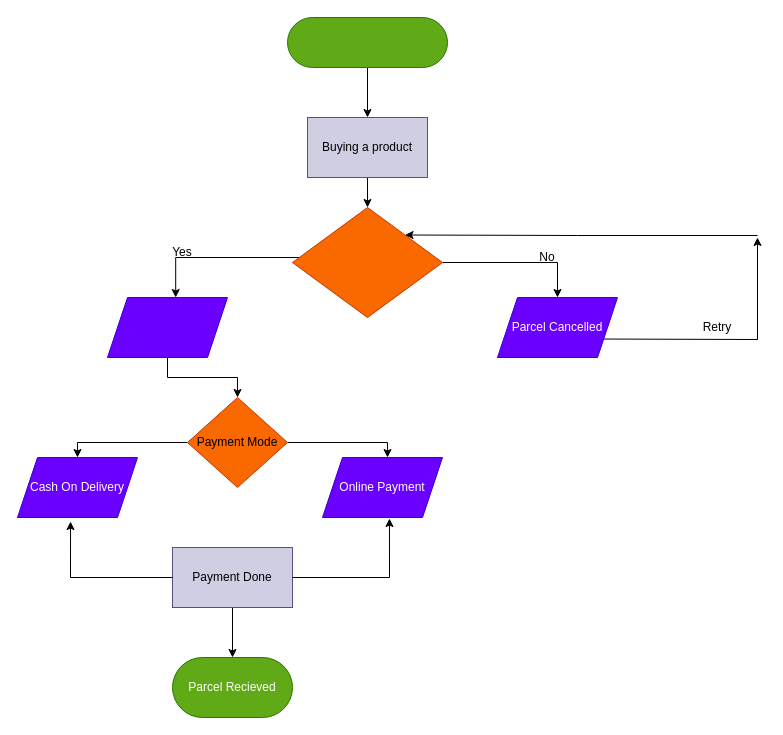
Image size: 783x735. Some labels were removed from this diagram. The shapes that lost their labels are listed below. From the top down, each one's centre as x and y in pixels, then its label:
At point 367,42: "Buying Something Online".
At point 367,262: "Parcel approval".
At point 167,327: "Parcel approved".
